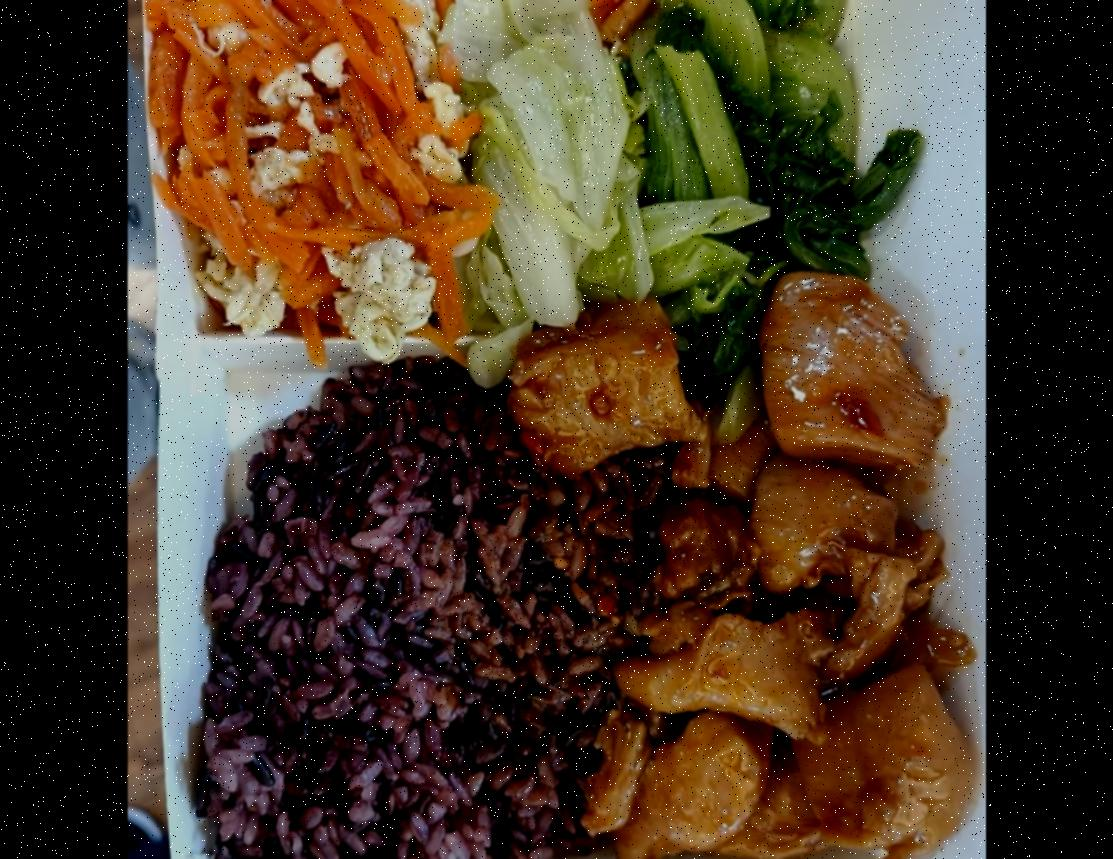box: (135, 0, 920, 859)
purple rice: (197, 361, 631, 859)
side dish: (599, 0, 917, 360), (157, 0, 463, 339), (445, 0, 634, 352)
spicy chicken: (523, 278, 979, 859)
